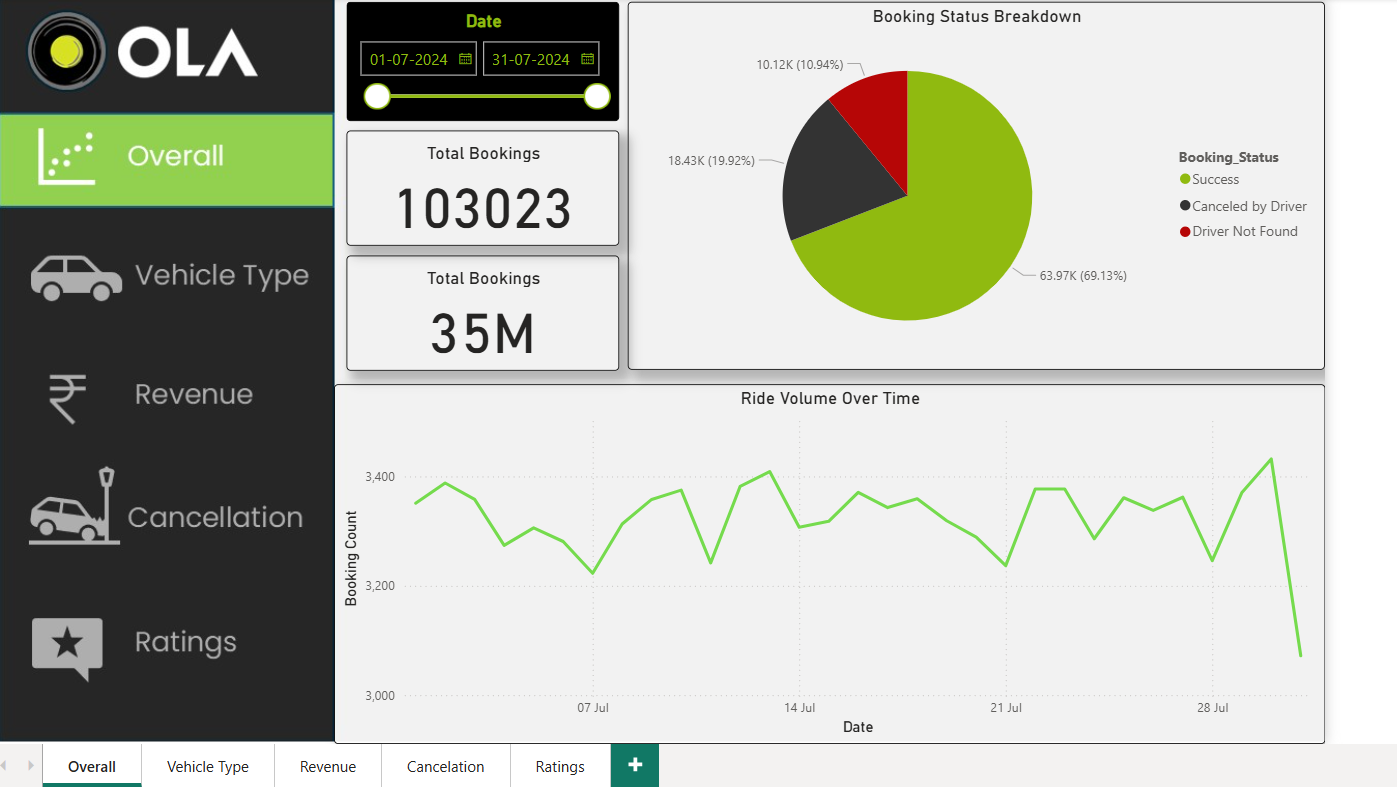

Layout of this report page (visuals, bound fields, positions):
{"tool":"powerbi","page":{"name":"Overall","canvas":[1280,720],"ordinal":0},"visuals":[{"type":"actionButton","box":[0,220.8,323.3,92.9],"z":0},{"type":"actionButton","box":[0,222,323.3,92.9],"z":1000},{"type":"actionButton","box":[0,222,323.3,92.9],"z":2000},{"type":"actionButton","box":[0,222,323.3,92.9],"z":3000},{"type":"actionButton","box":[0,339,323.3,92.9],"z":4000},{"type":"actionButton","box":[0,446.4,323.3,100.1],"z":5000},{"type":"actionButton","box":[0,576.7,323.3,92.9],"z":6000},{"type":"lineChart","title":"Ride Volume Over Time","fields":{"Y":["CountNonNull(July.Booking_ID)"],"Category":["July.Date"]},"box":[323.2,373.4,957.1,346.9],"z":7000},{"type":"pieChart","title":"Booking Status Breakdown","fields":{"Category":["July.Booking_Status"],"Y":["CountNonNull(July.Booking_Status)"]},"box":[607.4,4.2,672.9,355.2],"z":8000},{"type":"slicer","title":"Date","fields":{"Values":["July.Date"]},"box":[334.8,4.1,263.5,115.3],"z":9000},{"type":"card","title":"Total Bookings","fields":{"Values":["Count(July.Booking_ID)"]},"box":[334.8,127.6,263.5,111.1],"z":10000},{"type":"card","title":"Total Bookings","fields":{"Values":["Sum(July.Booking_Value)"]},"box":[334.8,248.4,263.5,111.1],"z":11000}]}

Visuals, with their boxes on the page's 1280x720 design canvas (x1, y1, x2, y2). These are canvas units, not pixel positions in the 1397x787 screenshot, which may show the page scaled, cropped or inside an application window:
actionButton: 0/221/323/314
actionButton: 0/222/323/315
actionButton: 0/222/323/315
actionButton: 0/222/323/315
actionButton: 0/339/323/432
actionButton: 0/446/323/546
actionButton: 0/577/323/670
"Ride Volume Over Time" lineChart: 323/373/1280/720
"Booking Status Breakdown" pieChart: 607/4/1280/359
"Date" slicer: 335/4/598/119
"Total Bookings" card: 335/128/598/239
"Total Bookings" card: 335/248/598/360
